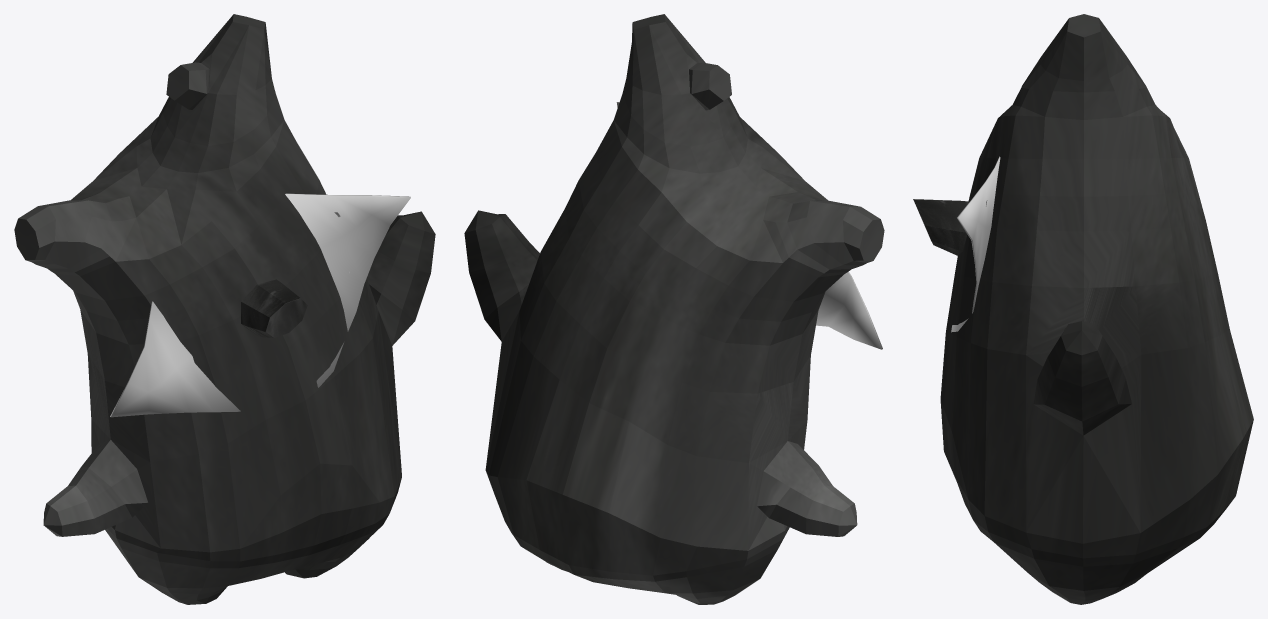
The model's file is frame_0024.obj.
3 views of the same model, side by side, from view 1: azimuth 30°, elevation 25°; view 2: azimuth 150°, elevation 25°; view 3: azimuth 270°, elevation 25° (orthographic). The views are drawn at different scales.
Parts seen in each view (by area): view 1: korok, leaf, nose; view 2: korok, leaf; view 3: korok, leaf, nose.
Boxes of the visible parts, bbox=[...] form: korok: bbox=[14, 14, 435, 604]; leaf: bbox=[110, 193, 410, 417]; nose: bbox=[241, 279, 307, 337]; korok: bbox=[464, 14, 884, 604]; leaf: bbox=[616, 102, 882, 349]; korok: bbox=[940, 14, 1253, 604]; leaf: bbox=[951, 156, 1000, 332]; nose: bbox=[913, 199, 968, 255].
Bounding box in the file's own units: 1.69 × 2.27 × 1.27.
